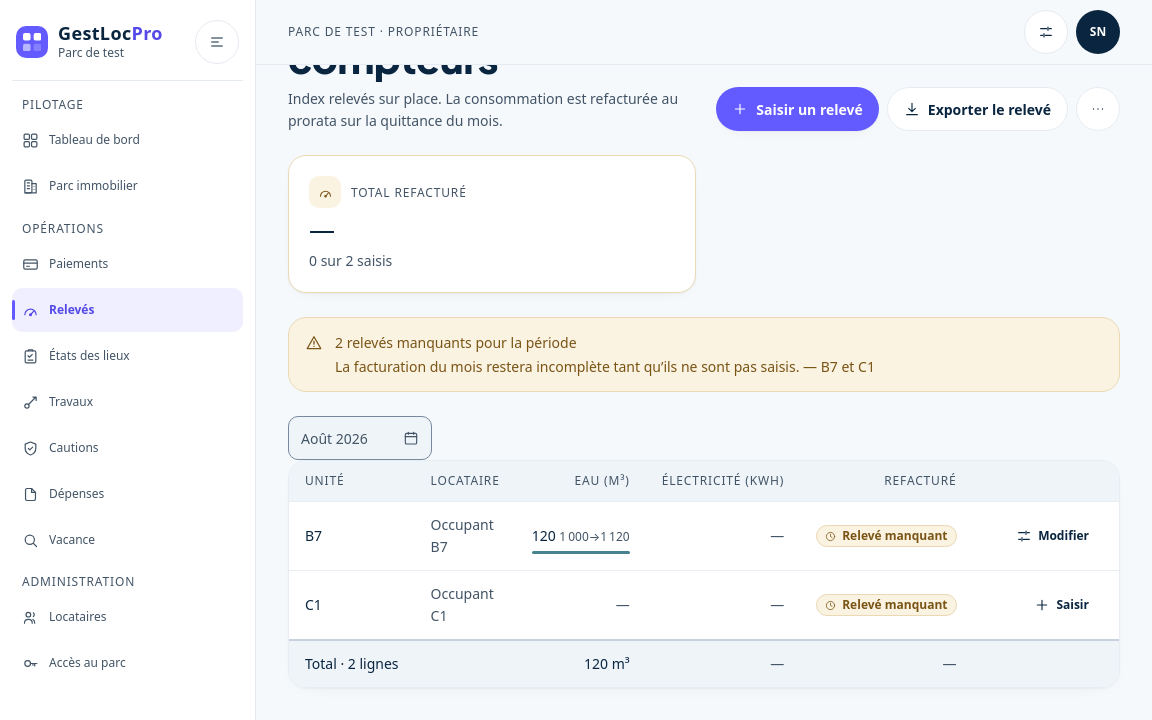
Test case: la ligne sans relevé porte son geste › ouvre la saisie SUR CE LOGEMENT
The width and height of the screenshot is (1152, 720).
(page scrolled)
Click the button "Saisir".
click(1062, 605)  # box [1020,583,1103,627]
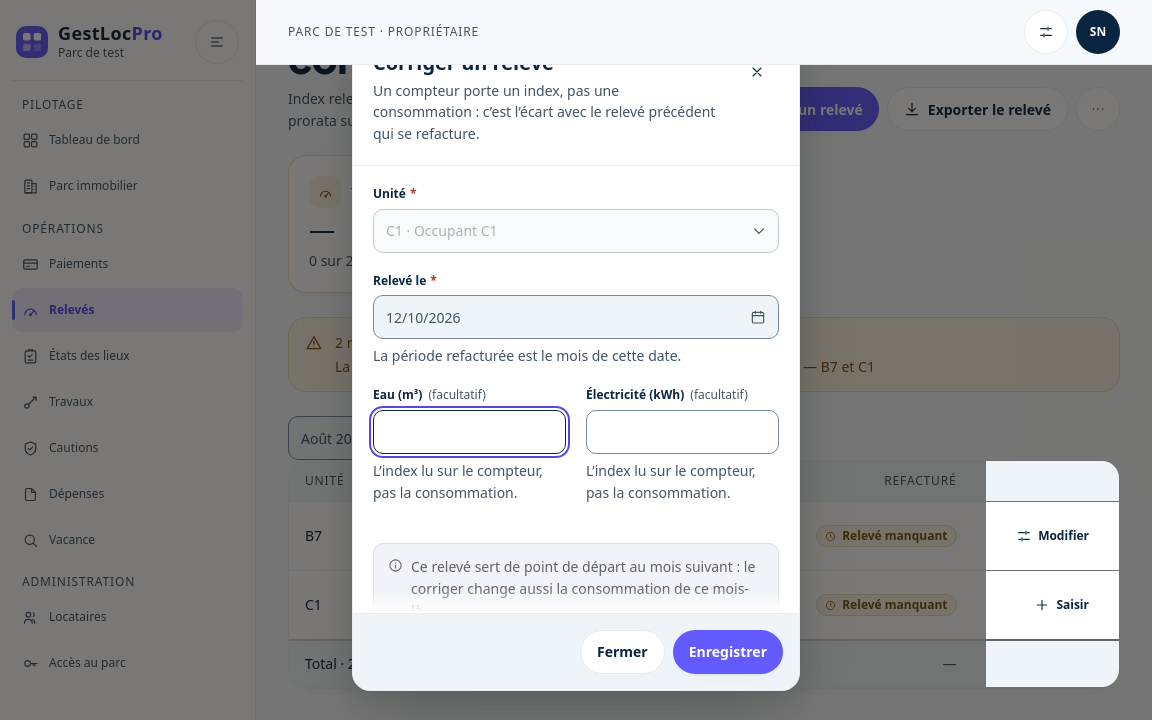
Result: the element named "unitId" holds "bbbbbbbb-cccc-4ddd-8eee-ffffffffffff" at [373,186,779,253]
